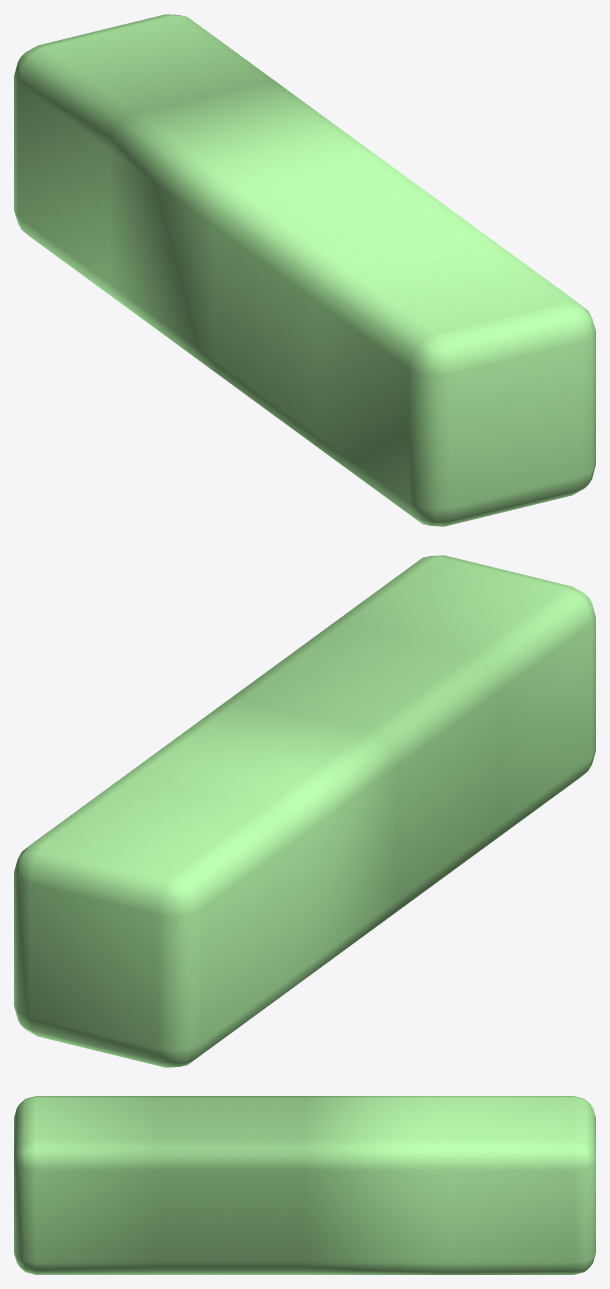
File: __clay_block_05_7.obj
The picture shows the model from 3 angles, top to bottom: view 1: azimuth 30°, elevation 25°; view 2: azimuth 150°, elevation 25°; view 3: azimuth 270°, elevation 25°; orthographic projection. The views are drawn at different scales.
Visible parts, largest first — view 1: clay_block_7; view 2: clay_block_7; view 3: clay_block_7.
Boxes of the visible parts, box(x1,y1,x2,y2) form: clay_block_7: box(14, 14, 595, 526); clay_block_7: box(14, 555, 595, 1067); clay_block_7: box(14, 1096, 595, 1274).
Size of the model in its own units: 1 by 1 by 4.
1 material, 1 textured.
